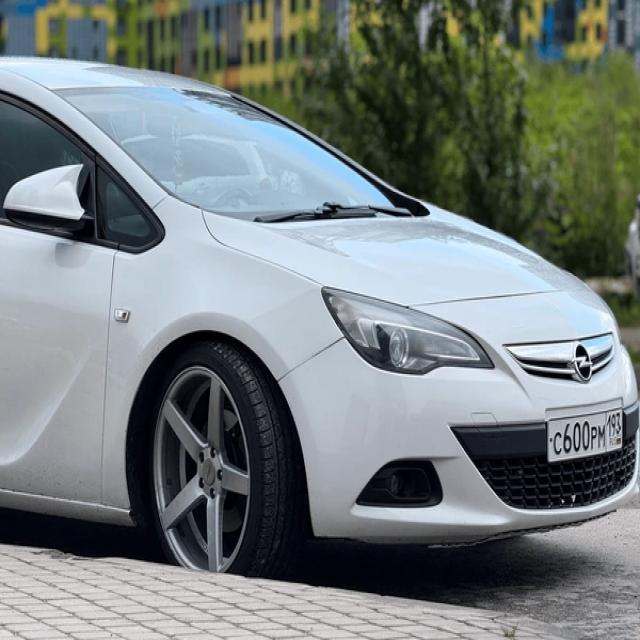opel: (569, 341, 594, 384)
